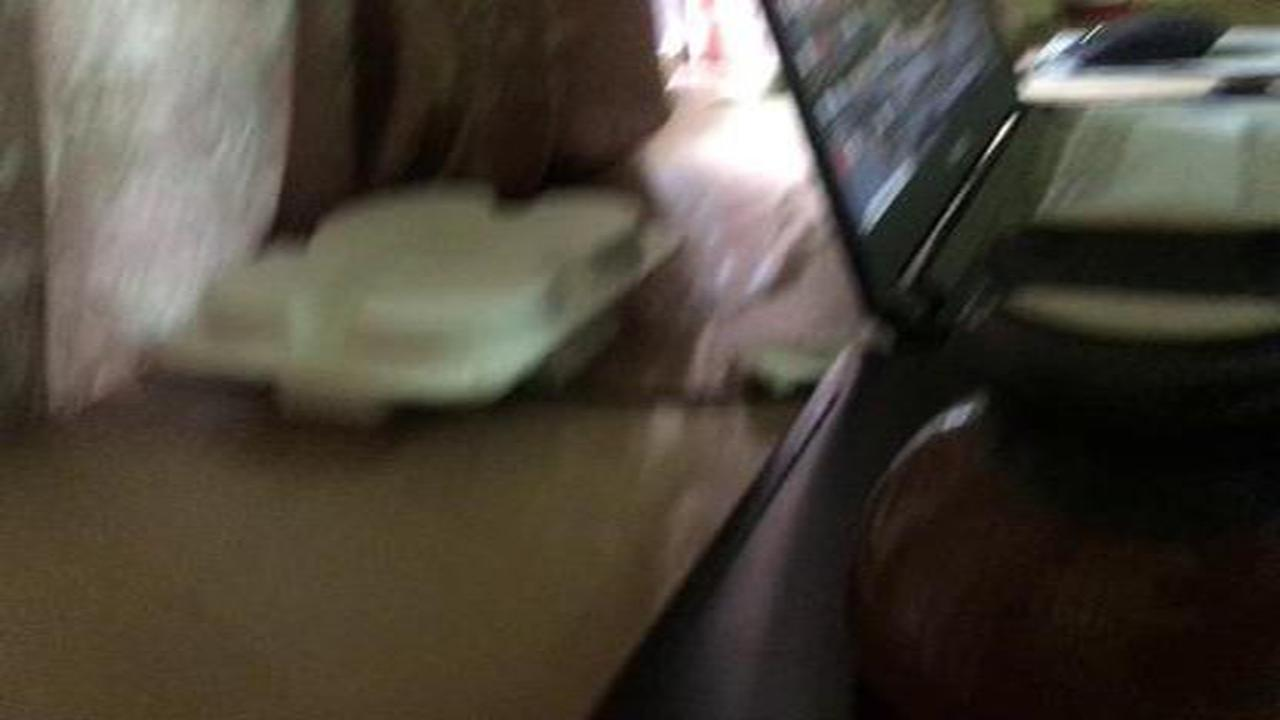insulator_pin: (837, 200, 1280, 714)
